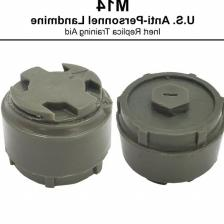M14: (2, 63, 110, 187), (117, 68, 224, 187)
